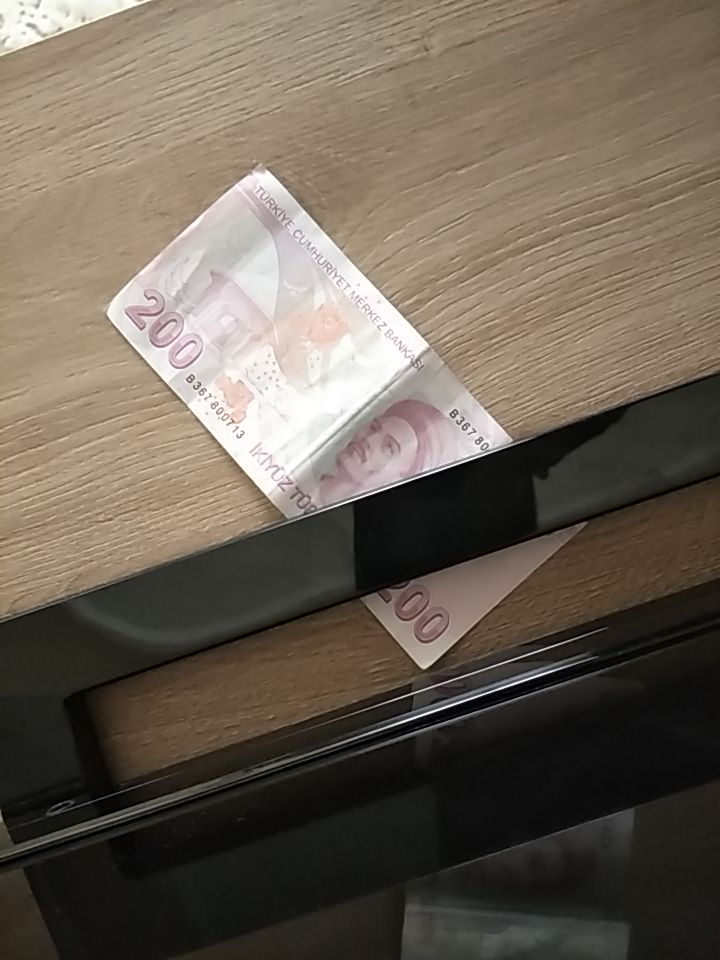200TL: (101, 162, 591, 673)
